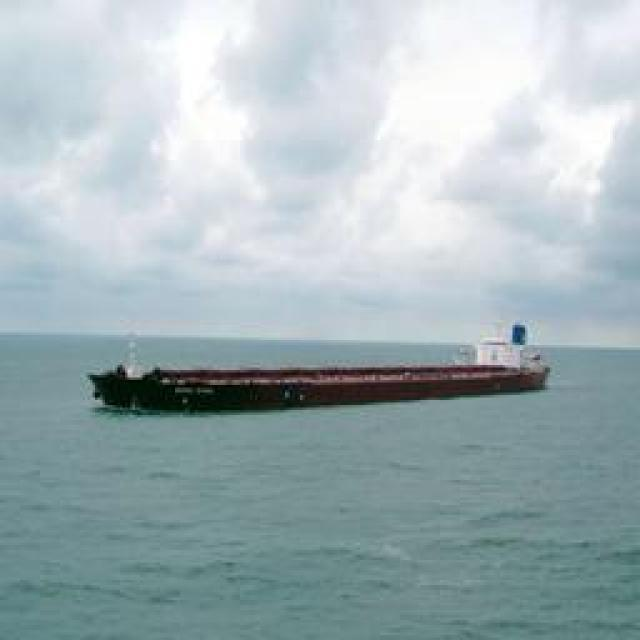CIV_Ship: (92, 334, 546, 412)
